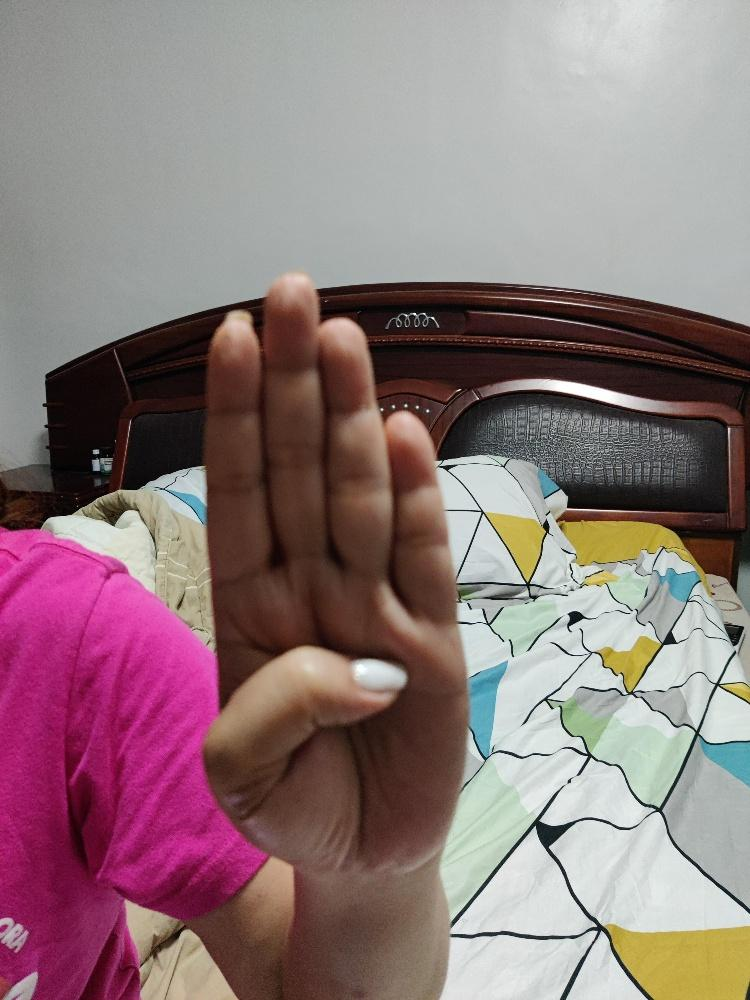b: (199, 269, 470, 883)
